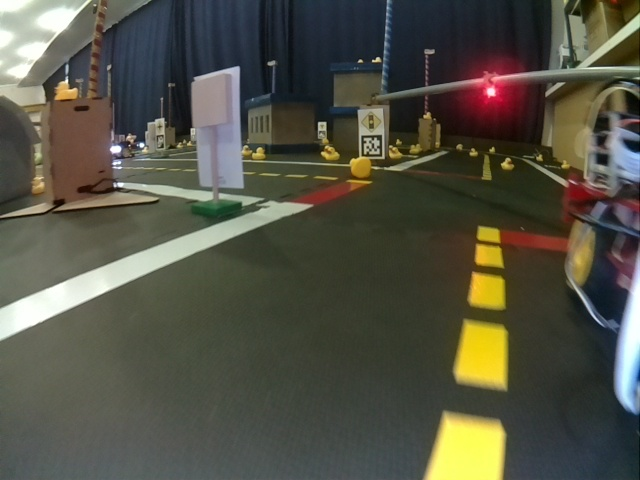Duckie: (55, 83, 77, 100), (351, 158, 371, 171), (324, 147, 334, 158), (501, 159, 511, 169), (242, 145, 251, 155), (389, 147, 398, 156), (254, 150, 264, 157), (423, 112, 432, 119), (470, 148, 477, 156), (561, 160, 568, 168), (410, 145, 419, 151), (537, 154, 543, 161), (489, 147, 495, 154), (456, 144, 463, 150)
Duckiebot: (565, 120, 632, 396)
Intersection sign: (156, 119, 164, 132)
QR code: (359, 135, 384, 157)
Signal sign: (358, 109, 383, 133)
Traffic light: (482, 71, 498, 98)
